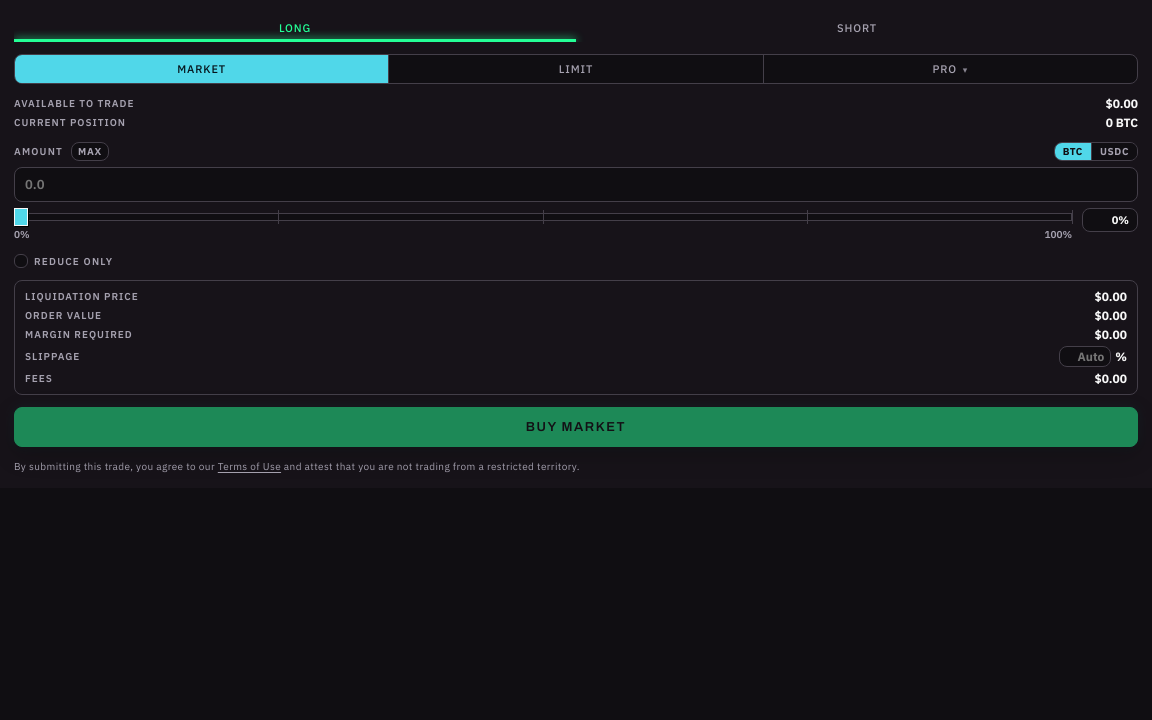
Scenario: OrderEntry › renders the Stop Limit two-field set (Stop Price + Limit price, no TP/SL) when Stop Limit is selected
Click the button "Pro ▾".
click(950, 69)  # box [764,55,1137,83]
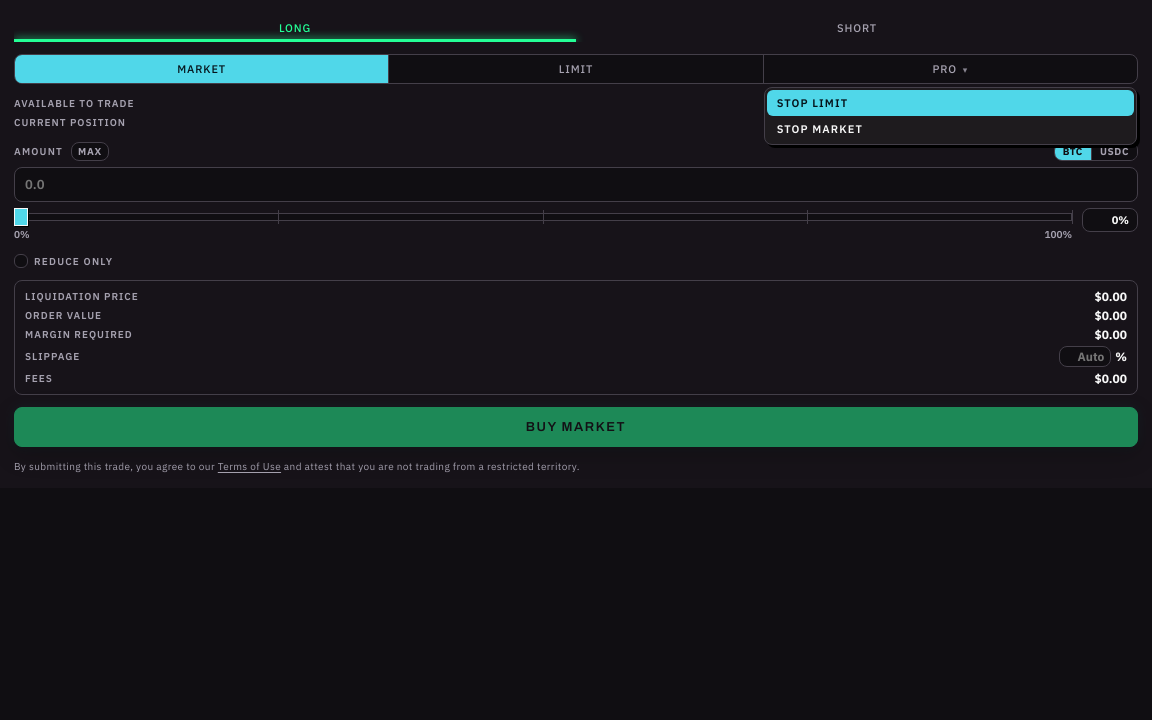
Click the option "Stop Limit".
click(812, 103)  # box [767,90,1134,116]
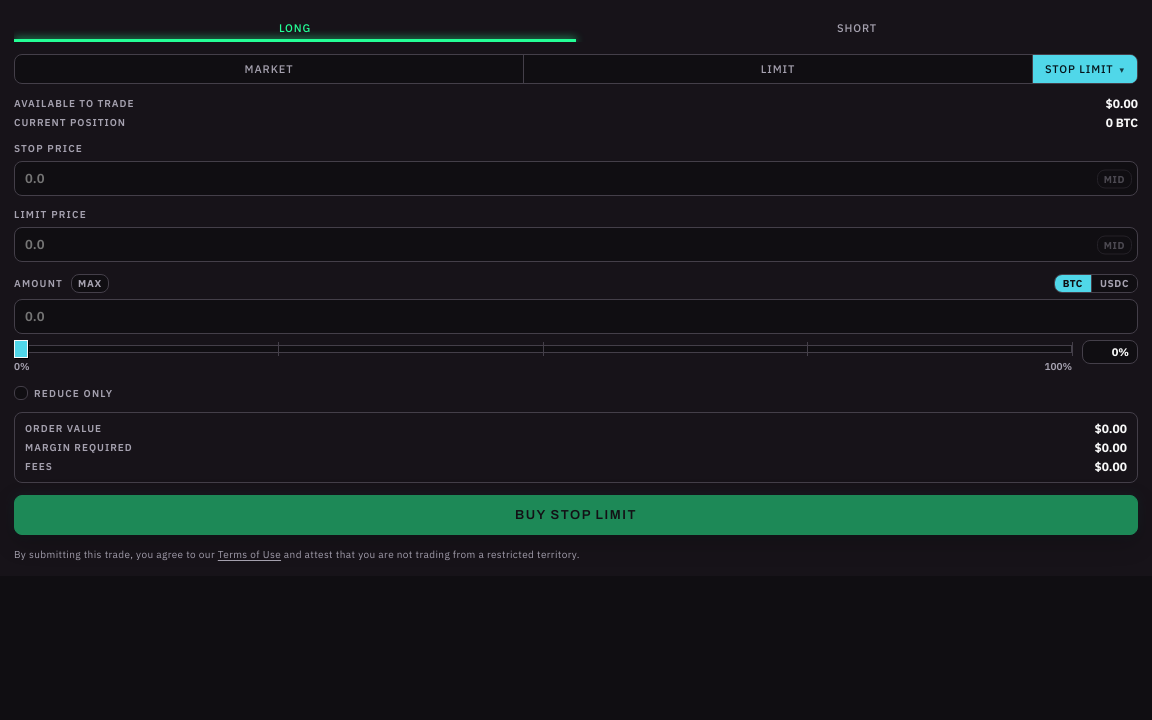
Expected: the field labelled "Stop Price" is shown, [14,161,1138,196]
Expected: the field labelled "Limit price" is shown, [14,227,1138,262]
Expected: the text "Liquidation Price" is gone
